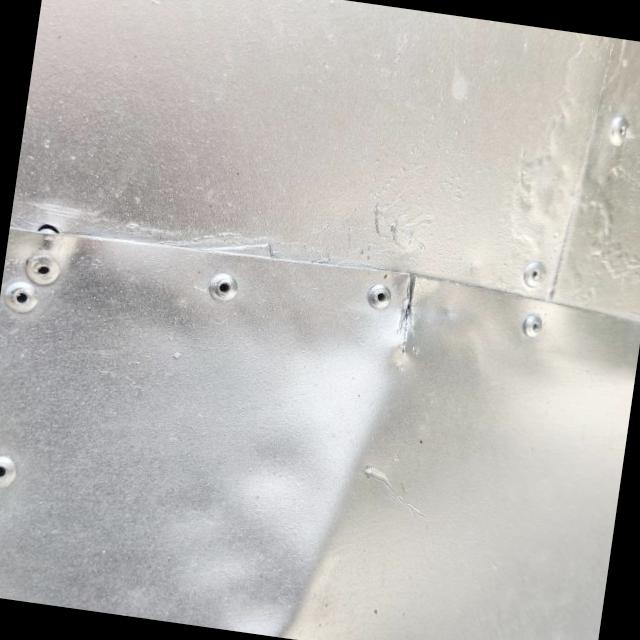dent: (266, 338, 411, 640), (133, 474, 273, 624), (222, 412, 329, 516)
